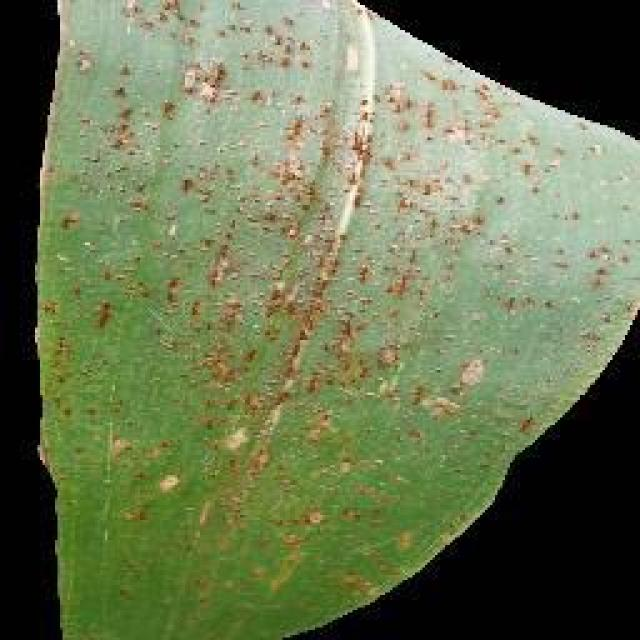Corn Common Rust: (136, 118, 536, 477)
